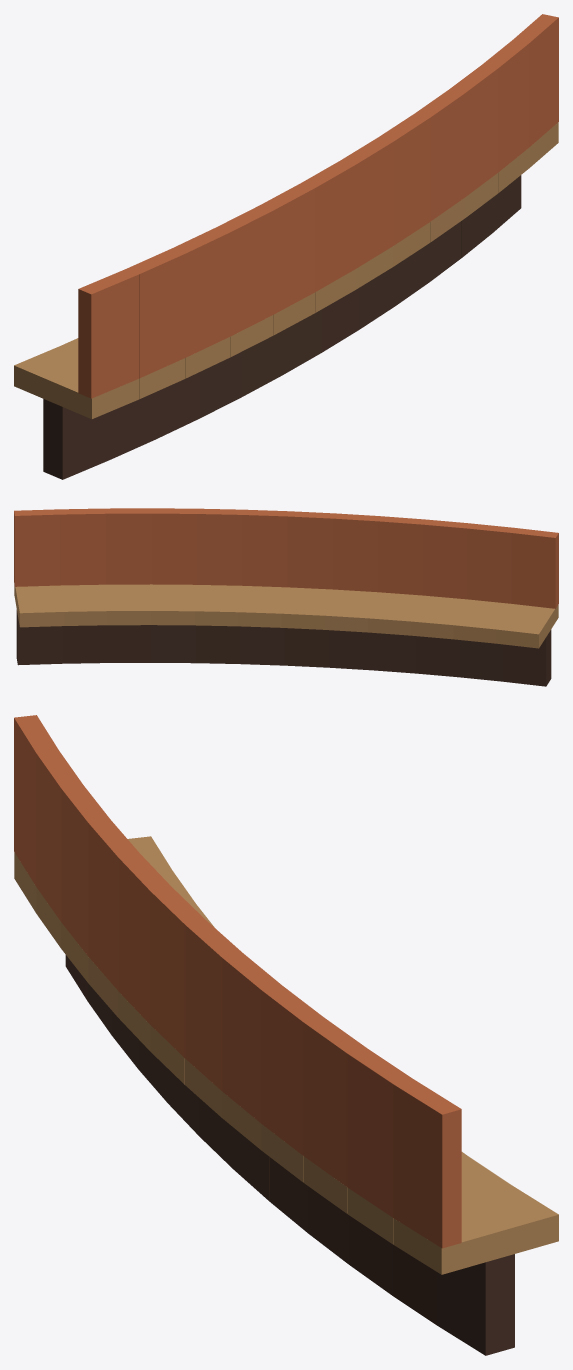
3 views of the same model, one above another, from view 1: azimuth 30°, elevation 25°; view 2: azimuth 150°, elevation 25°; view 3: azimuth 270°, elevation 25° (orthographic). The views are drawn at different scales.
Visible parts, largest first — view 1: banco_este; view 2: banco_este; view 3: banco_este.
Part boxes in pixels (left/top/right/bottom): banco_este: left=14, top=14, right=558, bottom=479; banco_este: left=14, top=508, right=558, bottom=686; banco_este: left=14, top=715, right=558, bottom=1355.
Bounding box in the file's own units: 3.3 × 1.85 × 0.95.
